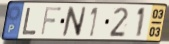1: (135, 7, 147, 39), (89, 6, 100, 38)
2: (108, 7, 130, 39)
F: (39, 6, 64, 37)
L: (21, 6, 38, 36)
N: (61, 6, 88, 38)
